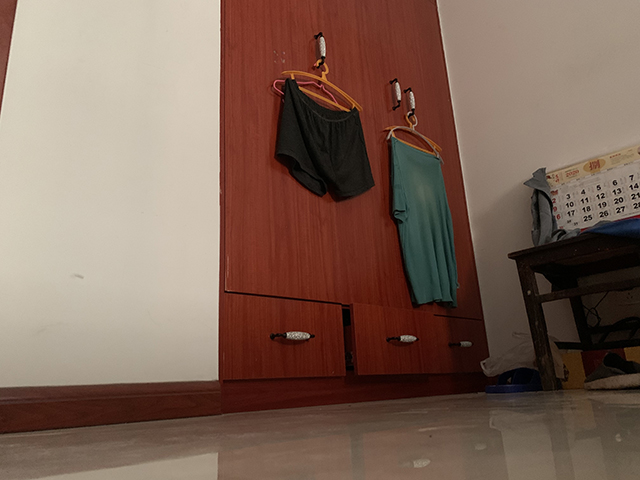cabinet: (216, 1, 493, 417)
slippers: (485, 365, 563, 395)
table: (506, 217, 640, 392)
